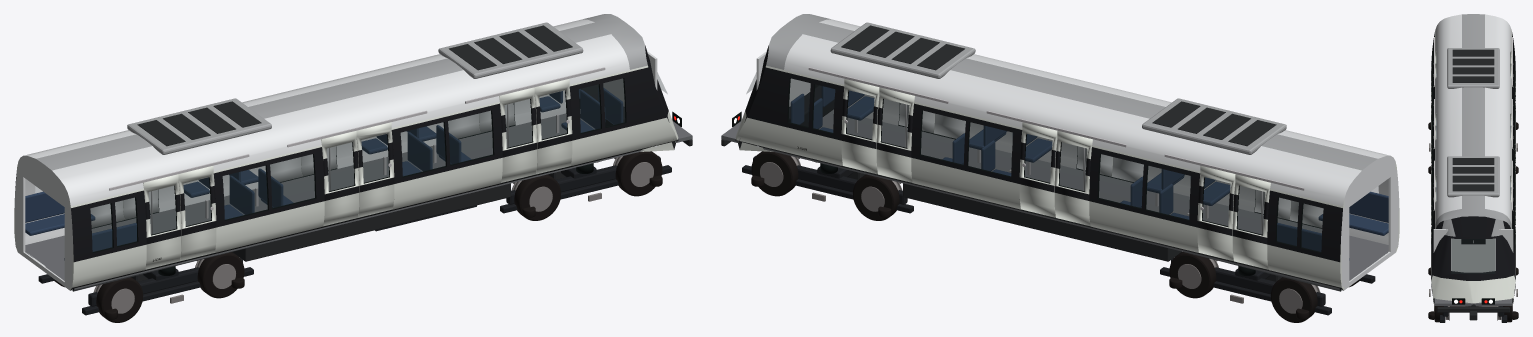
File: mp05_cab.glb
The picture shows the model from 3 angles, left to right: view 1: azimuth 30°, elevation 25°; view 2: azimuth 150°, elevation 25°; view 3: azimuth 270°, elevation 25°; orthographic projection. The views are drawn at different scales.
Parts seen in each view (by area): view 1: METRO_MP05_L1-6voit_V1_Caisse, METRO_MP05_L1-6voit_V1_BaieG1, METRO_MP05_L1-6voit_V1_PorteD3_AV.002, METRO_MP05_L1-6voit_V1_PorteD2_AV.002, METRO_MP05_L1-6voit_V1_PorteD1_AV.002, METRO_MP05_L1-6voit_V1_PorteD3_AR.002, METRO_MP05_L1-6voit_V1_PorteD1_AR.002, METRO_MP05_L1-6voit_V1_PorteD2_AR.002, METRO_MP05_L1-6voit_V1_PorteD1_AV_Vitre, METRO_MP05_L1-6voit_V1_PorteD2_AV_Vitre, METRO_MP05_L1-6voit_V1_PorteD1_AR_Vitre, METRO_MP05_L1-6voit_V1_PorteD2_AR_Vitre (+5 smaller); view 2: METRO_MP05_L1-6voit_V1_Caisse, METRO_MP05_L1-6voit_V1_BaieG1, METRO_MP05_L1-6voit_V1_PorteG3_AV.002, METRO_MP05_L1-6voit_V1_PorteG2_AV.002, METRO_MP05_L1-6voit_V1_PorteG1_AV.002, METRO_MP05_L1-6voit_V1_PorteG3_AR.002, METRO_MP05_L1-6voit_V1_PorteG1_AR.002, METRO_MP05_L1-6voit_V1_PorteG2_AR.002, METRO_MP05_L1-6voit_V1_PorteG1_AV_Vitre, METRO_MP05_L1-6voit_V1_PorteG2_AV_Vitre, METRO_MP05_L1-6voit_V1_PorteG1_AR_Vitre, METRO_MP05_L1-6voit_V1_PorteG2_AR_Vitre (+5 smaller); view 3: METRO_MP05_L1-6voit_V1_Caisse, METRO_MP05_L1-6voit_V1_BaieG1, METRO_MP05_L1-6voit_V1_PorteG2_AV.002, METRO_MP05_L1-6voit_V1_PorteD2_AV.002, METRO_MP05_L1-6voit_V1_PorteG1_AV.002, METRO_MP05_L1-6voit_V1_PorteG2_AR.002, METRO_MP05_L1-6voit_V1_PorteG3_AR.002, METRO_MP05_L1-6voit_V1_PorteD1_AV.002, METRO_MP05_L1-6voit_V1_PorteD2_AR.002, METRO_MP05_L1-6voit_V1_PorteD3_AR.002, METRO_MP05_L1-6voit_V1_PorteG3_AV.002, METRO_MP05_L1-6voit_V1_PorteD3_AV.002 (+2 smaller).
Boxes of the visible parts, left/top/right/bottom form: METRO_MP05_L1-6voit_V1_Caisse: left=14, top=14, right=692, bottom=322; METRO_MP05_L1-6voit_V1_BaieG1: left=35, top=73, right=667, bottom=251; METRO_MP05_L1-6voit_V1_PorteD3_AV.002: left=178, top=165, right=216, bottom=261; METRO_MP05_L1-6voit_V1_PorteD2_AV.002: left=356, top=122, right=394, bottom=217; METRO_MP05_L1-6voit_V1_PorteD1_AV.002: left=534, top=79, right=572, bottom=174; METRO_MP05_L1-6voit_V1_PorteD3_AR.002: left=143, top=174, right=181, bottom=269; METRO_MP05_L1-6voit_V1_PorteD1_AR.002: left=499, top=87, right=537, bottom=182; METRO_MP05_L1-6voit_V1_PorteD2_AR.002: left=321, top=131, right=359, bottom=226; METRO_MP05_L1-6voit_V1_PorteD1_AV_Vitre: left=539, top=91, right=566, bottom=138; METRO_MP05_L1-6voit_V1_PorteD2_AV_Vitre: left=361, top=134, right=388, bottom=182; METRO_MP05_L1-6voit_V1_PorteD1_AR_Vitre: left=504, top=99, right=531, bottom=147; METRO_MP05_L1-6voit_V1_PorteD2_AR_Vitre: left=327, top=142, right=353, bottom=190; METRO_MP05_L1-6voit_V1_Caisse: left=721, top=14, right=1399, bottom=322; METRO_MP05_L1-6voit_V1_BaieG1: left=746, top=73, right=1378, bottom=251; METRO_MP05_L1-6voit_V1_PorteG3_AV.002: left=1197, top=165, right=1235, bottom=261; METRO_MP05_L1-6voit_V1_PorteG2_AV.002: left=1019, top=122, right=1057, bottom=217; METRO_MP05_L1-6voit_V1_PorteG1_AV.002: left=841, top=79, right=879, bottom=174; METRO_MP05_L1-6voit_V1_PorteG3_AR.002: left=1232, top=174, right=1270, bottom=269; METRO_MP05_L1-6voit_V1_PorteG1_AR.002: left=876, top=87, right=914, bottom=182; METRO_MP05_L1-6voit_V1_PorteG2_AR.002: left=1054, top=131, right=1092, bottom=226; METRO_MP05_L1-6voit_V1_PorteG1_AV_Vitre: left=847, top=91, right=874, bottom=138; METRO_MP05_L1-6voit_V1_PorteG2_AV_Vitre: left=1025, top=134, right=1052, bottom=182; METRO_MP05_L1-6voit_V1_PorteG1_AR_Vitre: left=882, top=99, right=909, bottom=147; METRO_MP05_L1-6voit_V1_PorteG2_AR_Vitre: left=1060, top=142, right=1086, bottom=190; METRO_MP05_L1-6voit_V1_Caisse: left=1428, top=14, right=1518, bottom=322; METRO_MP05_L1-6voit_V1_BaieG1: left=1433, top=101, right=1513, bottom=273; METRO_MP05_L1-6voit_V1_PorteG2_AV.002: left=1510, top=125, right=1515, bottom=181; METRO_MP05_L1-6voit_V1_PorteD2_AV.002: left=1431, top=125, right=1436, bottom=181; METRO_MP05_L1-6voit_V1_PorteG1_AV.002: left=1510, top=187, right=1515, bottom=243; METRO_MP05_L1-6voit_V1_PorteG2_AR.002: left=1510, top=113, right=1515, bottom=183; METRO_MP05_L1-6voit_V1_PorteG3_AR.002: left=1510, top=51, right=1515, bottom=121; METRO_MP05_L1-6voit_V1_PorteD1_AV.002: left=1431, top=187, right=1436, bottom=243; METRO_MP05_L1-6voit_V1_PorteD2_AR.002: left=1431, top=113, right=1436, bottom=183; METRO_MP05_L1-6voit_V1_PorteD3_AR.002: left=1431, top=51, right=1436, bottom=121; METRO_MP05_L1-6voit_V1_PorteG3_AV.002: left=1510, top=63, right=1515, bottom=119; METRO_MP05_L1-6voit_V1_PorteD3_AV.002: left=1431, top=63, right=1436, bottom=119.
Bounding box in the file's own units: 15.05 × 3.49 × 2.6.
9 materials, 9 textured.
